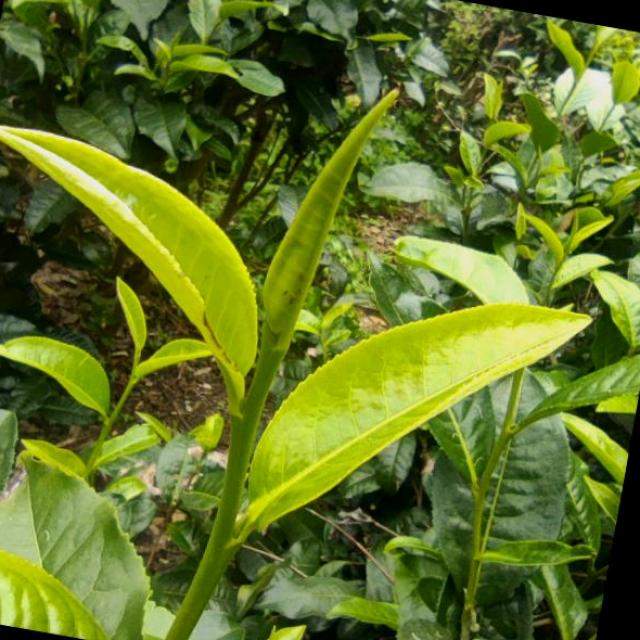Stem: (232, 406, 257, 436), (130, 378, 135, 384)
